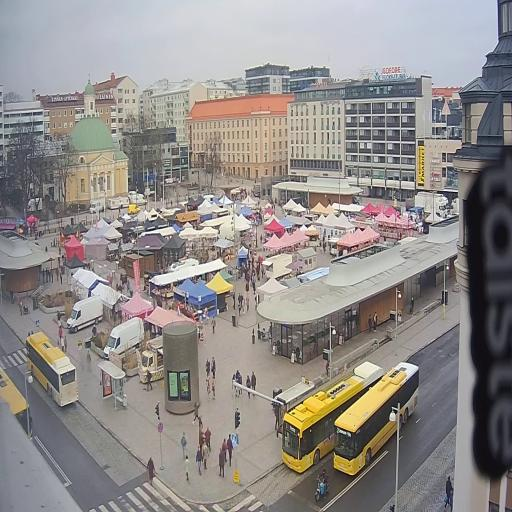bus: (282, 361, 384, 472), (334, 362, 419, 475), (26, 332, 78, 406), (0, 369, 32, 436)
delivery: (103, 317, 144, 359), (67, 296, 103, 332), (136, 336, 163, 383), (415, 192, 449, 218)
two-wheels: (315, 469, 329, 501)
